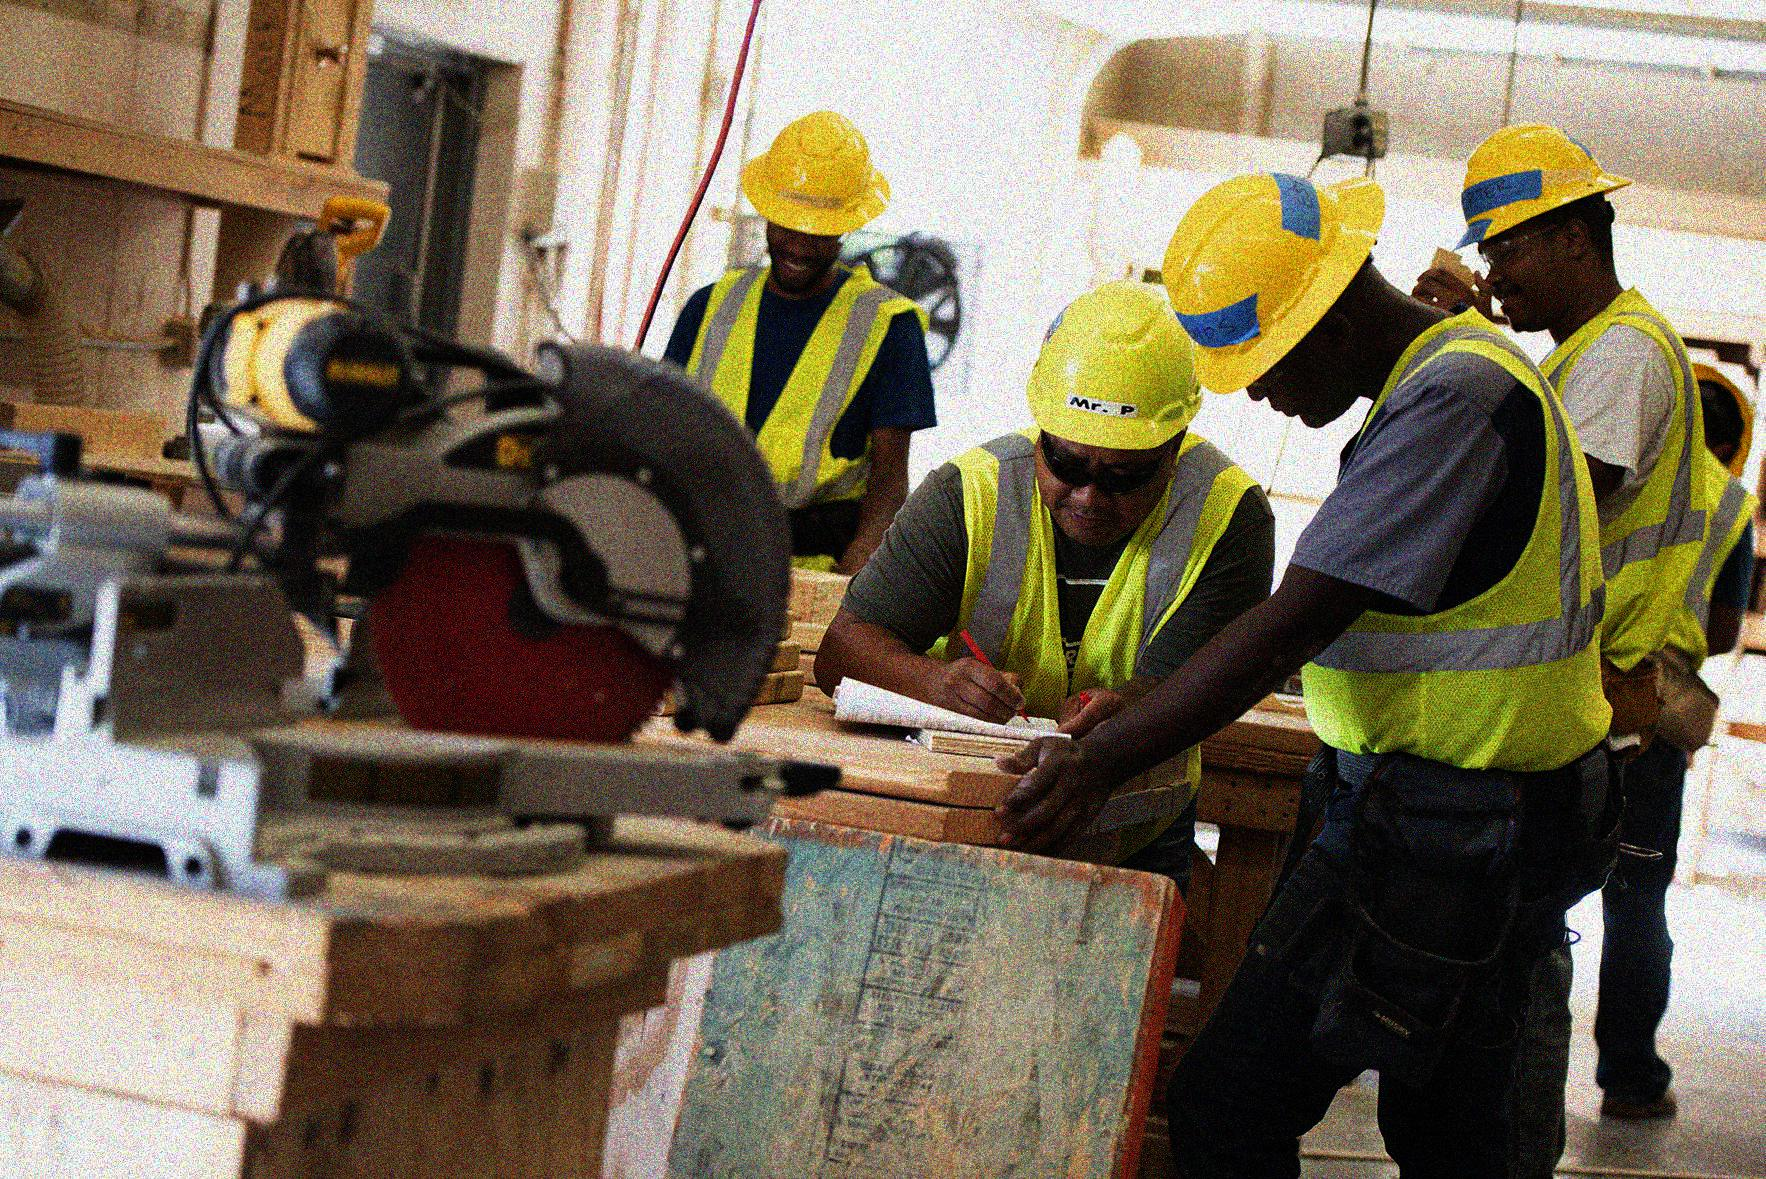helmet: (1165, 166, 1386, 428), (1019, 280, 1204, 547), (1454, 122, 1638, 326), (736, 107, 892, 297), (1687, 355, 1754, 476)
